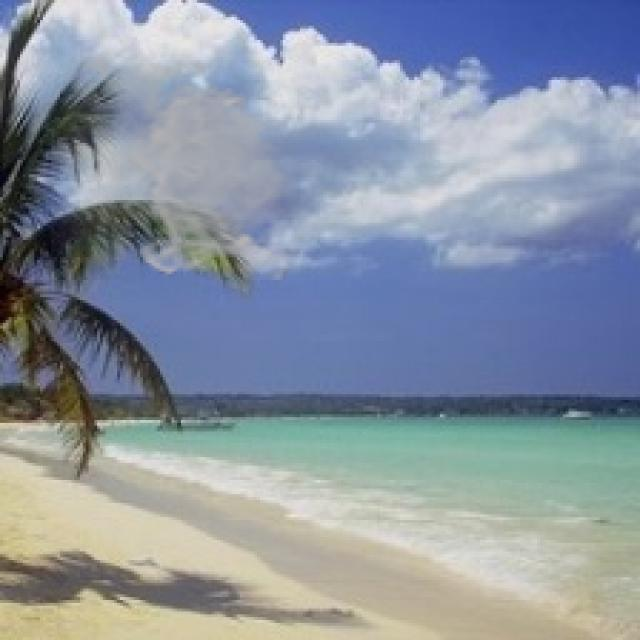smoke: (52, 43, 297, 280)
